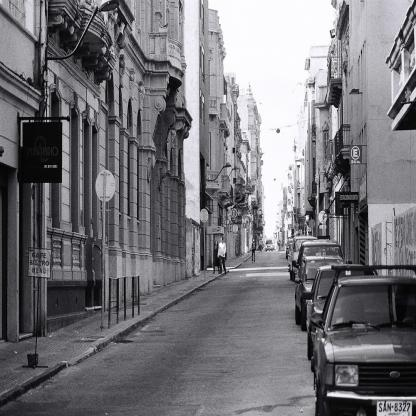Car: (286, 235, 416, 416), (264, 238, 274, 252)
